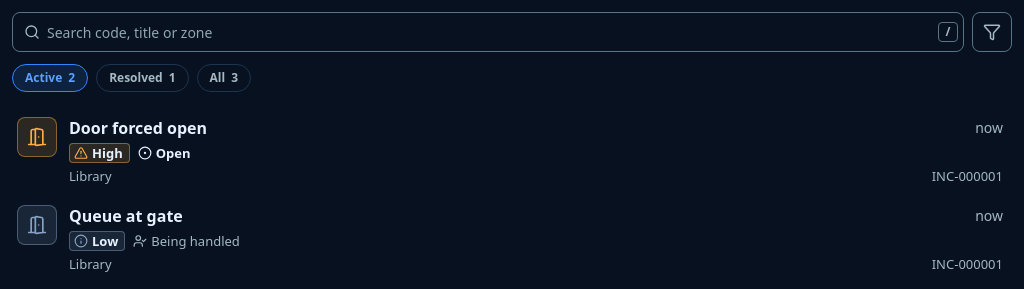
Test: IncidentFeed › tab counts › counts the tabs with the severity filter and the search
Check: the tab named "Active 1" is shown, box [12,64,88,92]
Check: the tab named "Resolved 0" is shown, box [96,64,189,92]
Type "smoke" into the search field named "Search incidents" at (488, 32), box [12,12,964,52]
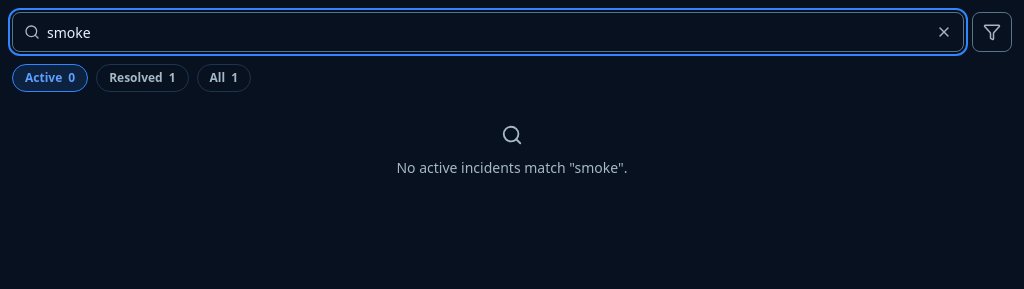
Check: the tab "Resolved 1" is shown, box [96,64,189,92]
Check: the tab "Active 0" is shown, box [12,64,88,92]
Check: the tab "All 1" is shown, box [197,64,251,92]
